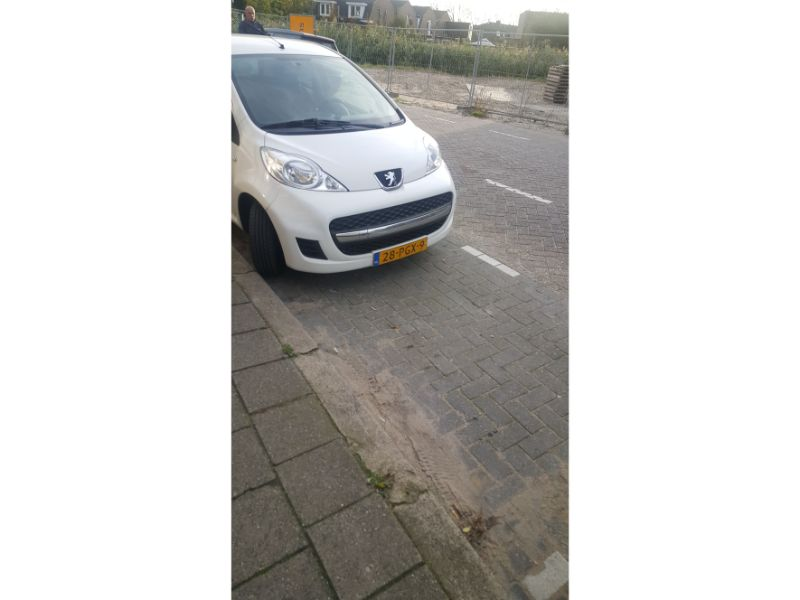kenteken: (372, 236, 430, 268)
